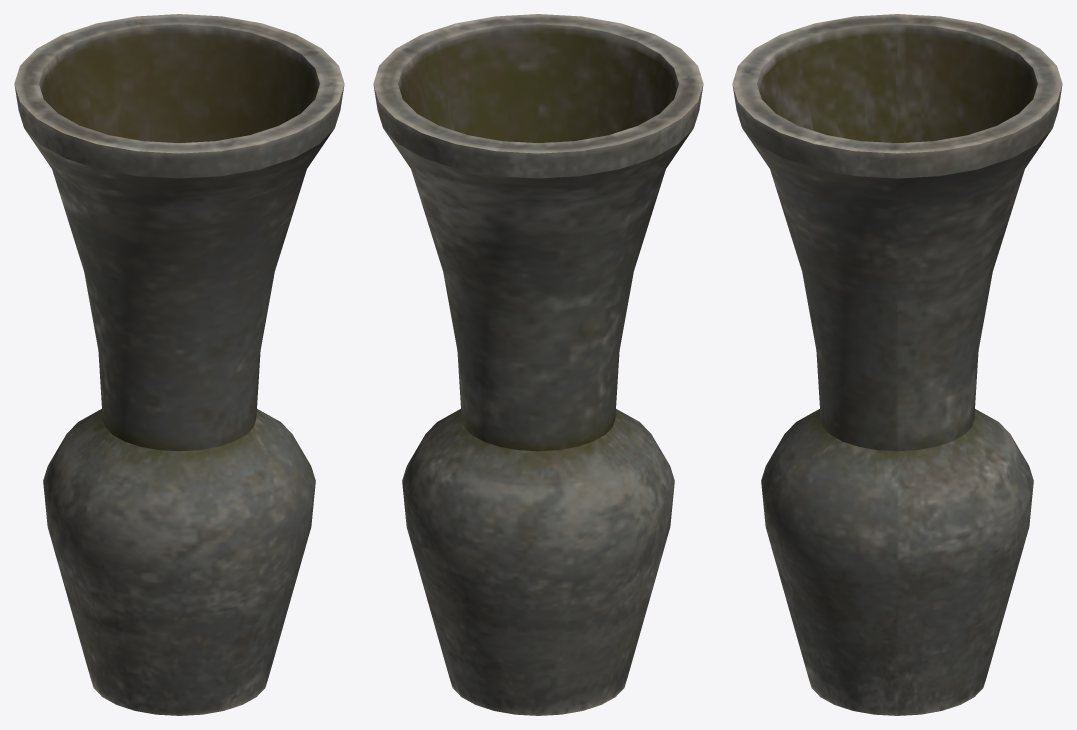
File: JT_Gy_Prp_FlowerStand_02.fbx
The picture shows the model from 3 angles, left to right: view 1: azimuth 30°, elevation 25°; view 2: azimuth 150°, elevation 25°; view 3: azimuth 270°, elevation 25°; orthographic projection.
Parts seen in each view (by area): view 1: JT_Gy_Prp_FlowerStand_02, JT_Gy_Prp_FlowerStand_02_LOD0; view 2: JT_Gy_Prp_FlowerStand_02_LOD0, JT_Gy_Prp_FlowerStand_02; view 3: JT_Gy_Prp_FlowerStand_02, JT_Gy_Prp_FlowerStand_02_LOD0.
Boxes of the visible parts, left/top/right/bottom form: JT_Gy_Prp_FlowerStand_02: left=14, top=14, right=344, bottom=715; JT_Gy_Prp_FlowerStand_02_LOD0: left=14, top=14, right=344, bottom=715; JT_Gy_Prp_FlowerStand_02_LOD0: left=373, top=14, right=700, bottom=712; JT_Gy_Prp_FlowerStand_02: left=373, top=14, right=703, bottom=715; JT_Gy_Prp_FlowerStand_02: left=732, top=14, right=1062, bottom=715; JT_Gy_Prp_FlowerStand_02_LOD0: left=732, top=14, right=1062, bottom=715.
Size of what is drawn, in the model's own units: 0.304 by 0.6039 by 0.304.
